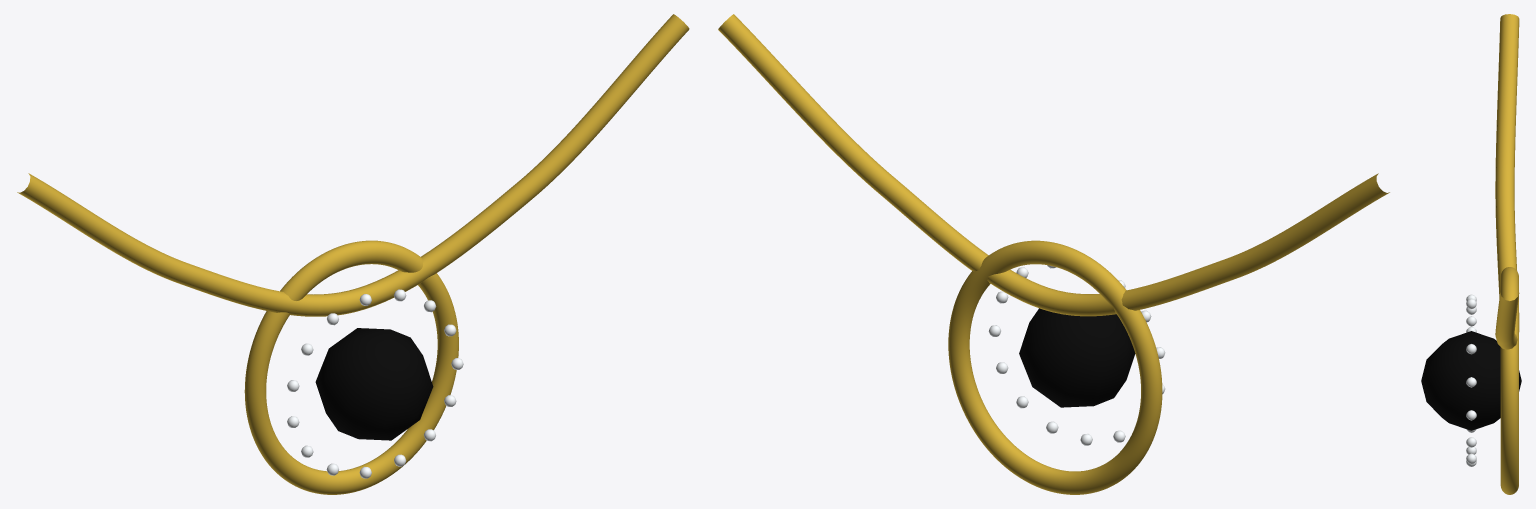
File: heritage-gold-mangalsutra.glb
The picture shows the model from 3 angles, left to right: view 1: azimuth 30°, elevation 25°; view 2: azimuth 150°, elevation 25°; view 3: azimuth 270°, elevation 25°; orthographic projection. The views are drawn at different scales.
Parts seen in each view (by area): view 1: chain, pendant_frame, pendant_gem; view 2: chain, pendant_frame, pendant_gem; view 3: pendant_gem, chain, pendant_frame.
Part boxes in pixels (x1=…): chain: x1=17, y1=14, x2=689, y2=316; pendant_frame: x1=244, y1=240, x2=458, y2=494; pendant_gem: x1=315, y1=328, x2=433, y2=440; chain: x1=718, y1=14, x2=1389, y2=316; pendant_frame: x1=948, y1=240, x2=1162, y2=494; pendant_gem: x1=1019, y1=308, x2=1135, y2=407; pendant_gem: x1=1421, y1=331, x2=1521, y2=430; chain: x1=1495, y1=14, x2=1519, y2=349; pendant_frame: x1=1500, y1=267, x2=1518, y2=494.
Bounding box in the file's own units: 2.75 × 1.56 × 0.42.
